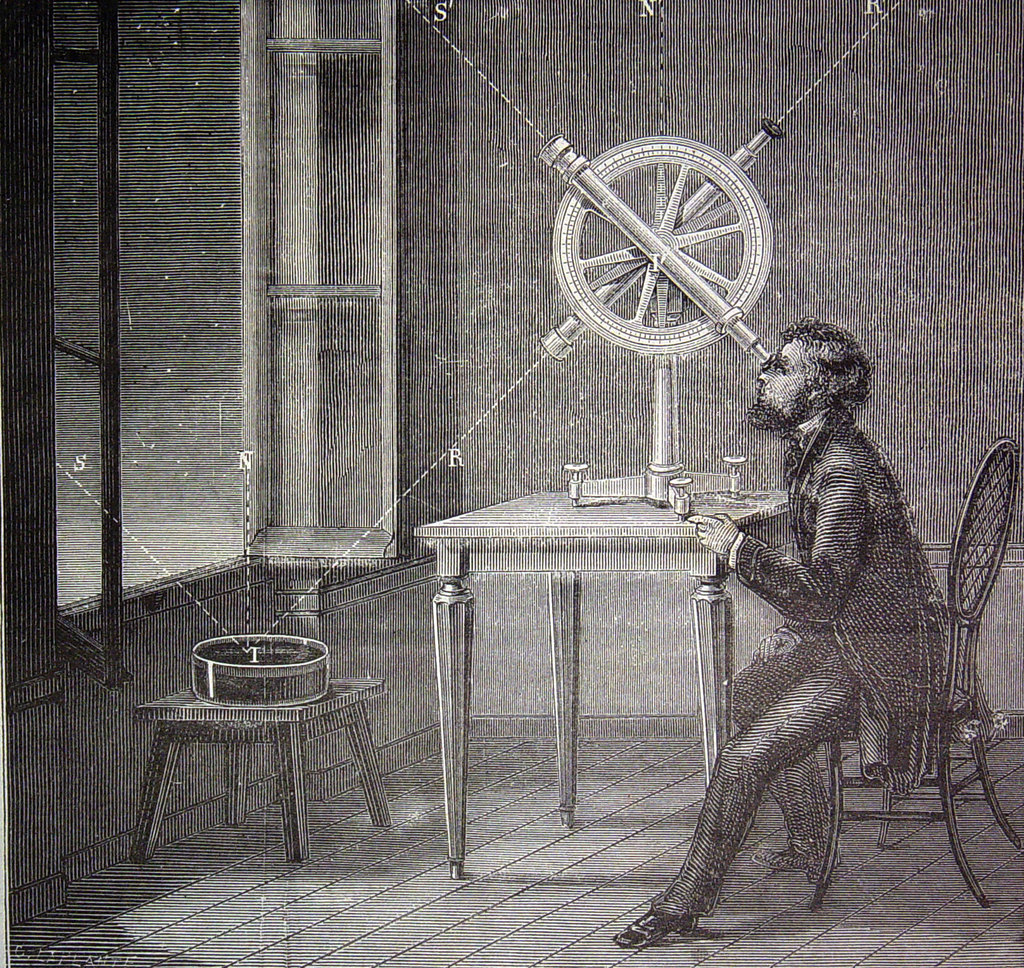Wheel: (546, 135, 772, 352)
